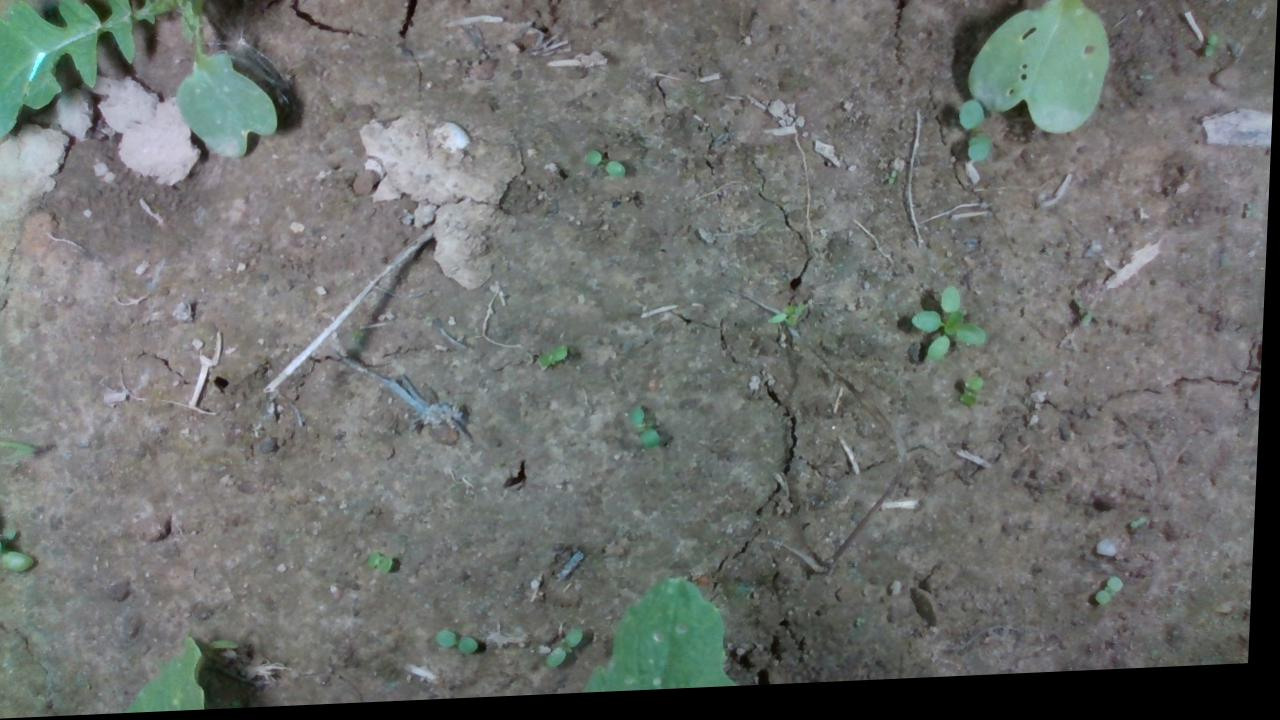weed: (551, 632, 590, 675), (582, 153, 629, 186), (439, 631, 485, 659), (1097, 584, 1128, 617), (961, 382, 987, 417), (1202, 42, 1219, 69), (1133, 524, 1152, 542)
